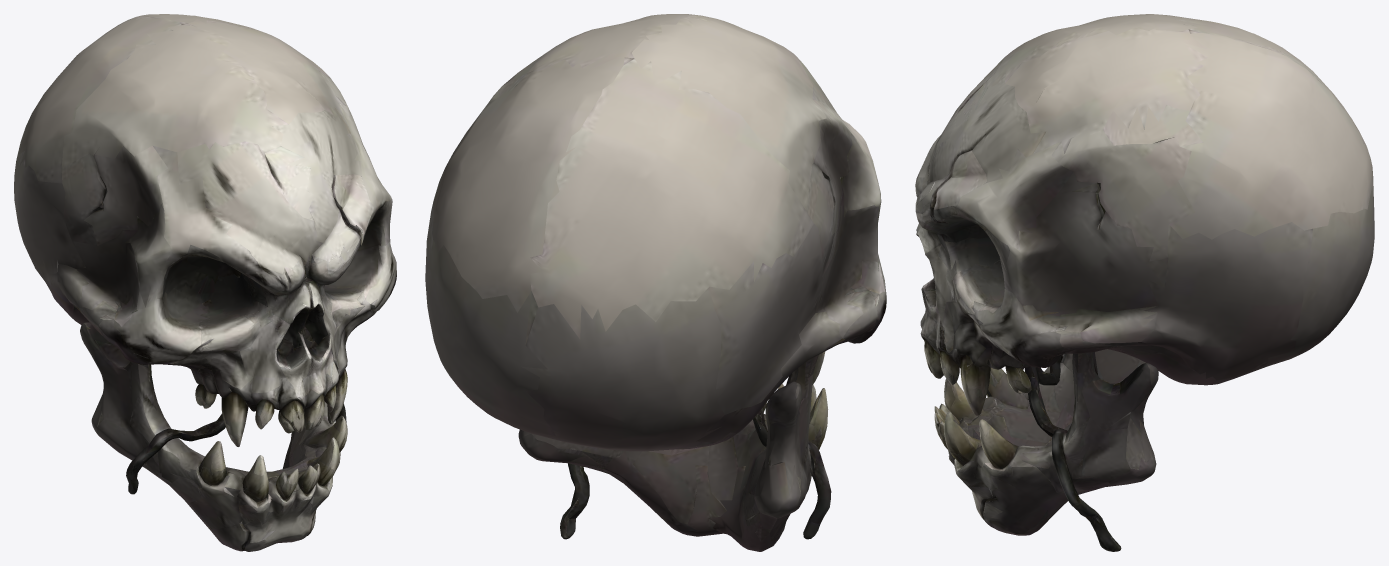
File: skull.glb
3 renders of one model, left to right at view 1: azimuth 30°, elevation 25°; view 2: azimuth 150°, elevation 25°; view 3: azimuth 270°, elevation 25°, orthographic. The views are drawn at different scales.
Parts seen in each view (by area): view 1: mesh_node; view 2: mesh_node; view 3: mesh_node.
Part boxes in pixels (x1,y1,x2,y2): mesh_node: (14,14,396,551); mesh_node: (425,14,886,551); mesh_node: (915,14,1374,551).
Bounding box in the file's own units: 1.25 × 1.9 × 1.6.
Materials: 1 (1 with a texture image).
